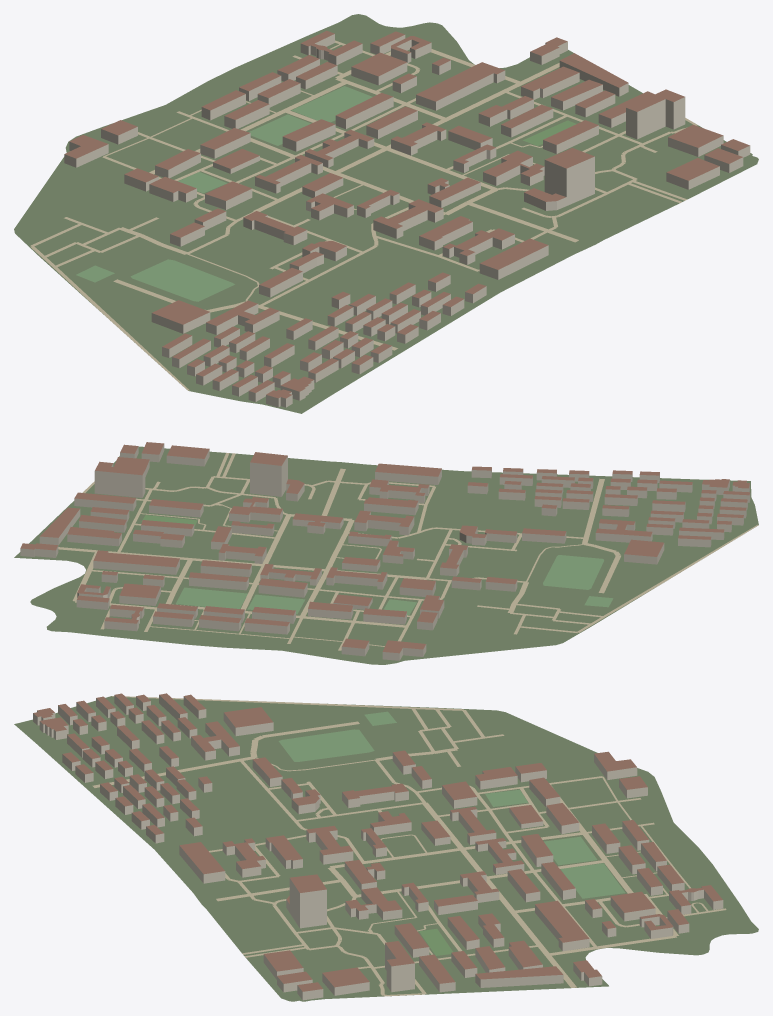
The picture shows the model from 3 angles, top to bottom: view 1: azimuth 30°, elevation 25°; view 2: azimuth 150°, elevation 25°; view 3: azimuth 270°, elevation 25°; orthographic projection. The views are drawn at different scales.
Parts seen in each view (by area): view 1: campus-ground, buildings, roofs, environment (×2); view 2: campus-ground, buildings, roofs, environment (×2); view 3: campus-ground, buildings, roofs, environment (×3).
Boxes of the visible parts, box(x1,y1,x2,y2) form: campus-ground: box(14, 14, 758, 413); buildings: box(64, 34, 750, 407); roofs: box(64, 30, 749, 398); environment (×2): box(30, 40, 697, 390); campus-ground: box(14, 446, 758, 664); buildings: box(20, 444, 750, 660); roofs: box(20, 442, 750, 653); environment (×2): box(58, 452, 758, 650); campus-ground: box(14, 696, 758, 1001); buildings: box(33, 695, 723, 1000); roofs: box(33, 693, 722, 991); environment (×3): box(92, 696, 726, 996).
Bounding box in the file's own units: 921 × 49.7 × 948.
